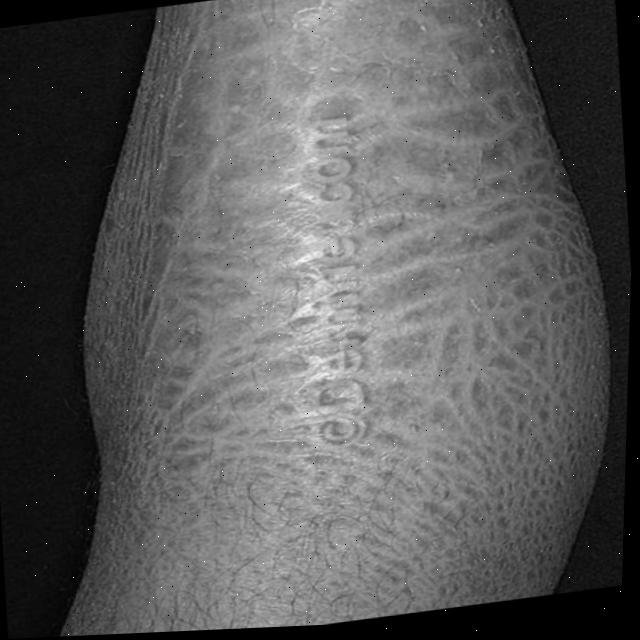Eczema: (95, 0, 619, 635)
